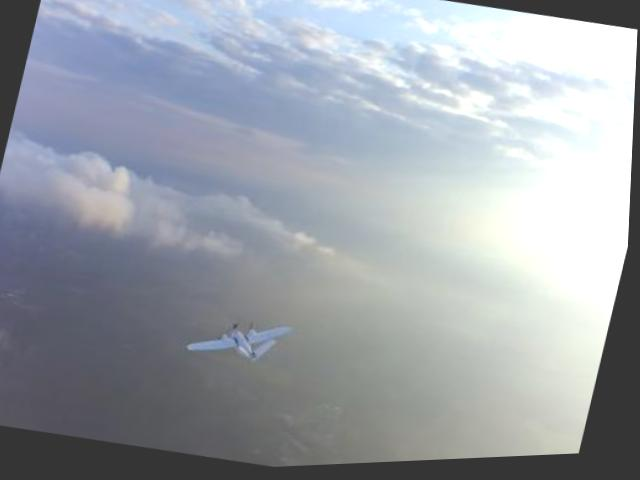uav: (187, 306, 297, 376)
